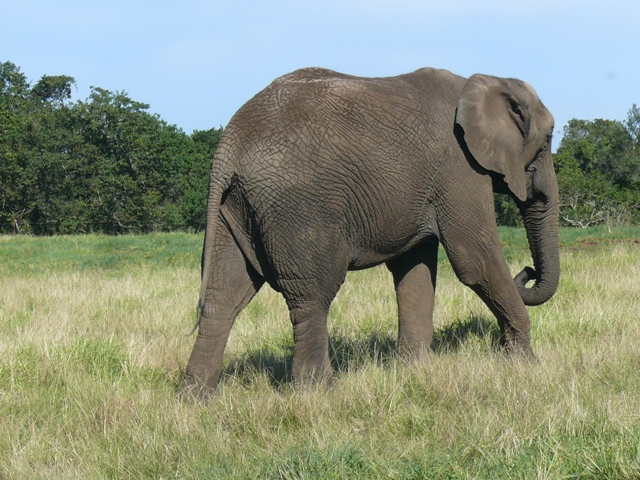elephant: (174, 55, 574, 403)
